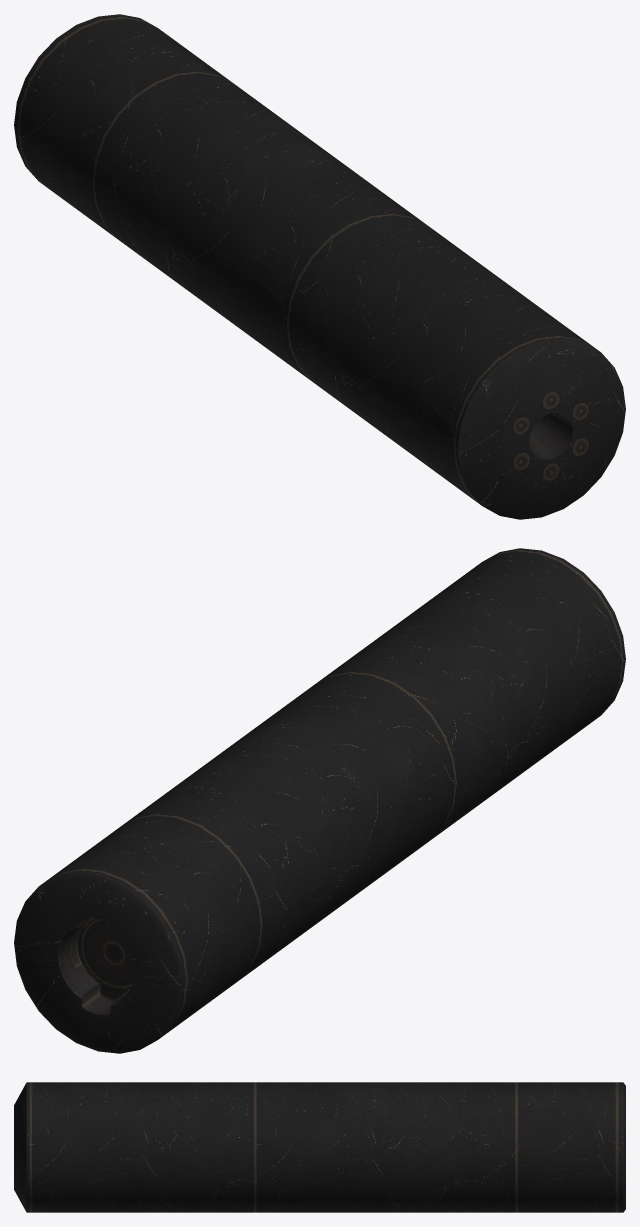
File: supressor.FBX
The picture shows the model from 3 angles, top to bottom: view 1: azimuth 30°, elevation 25°; view 2: azimuth 150°, elevation 25°; view 3: azimuth 270°, elevation 25°; orthographic projection. The views are drawn at different scales.
Parts seen in each view (by area): view 1: Medium_Suppressor_01; view 2: Medium_Suppressor_01; view 3: Medium_Suppressor_01.
Part boxes in pixels (x1,y1,x2,y2): Medium_Suppressor_01: (14, 14, 625, 519); Medium_Suppressor_01: (14, 548, 625, 1053); Medium_Suppressor_01: (14, 1082, 625, 1212).
Size of the model in its own units: 3.81 by 3.81 by 17.85.
